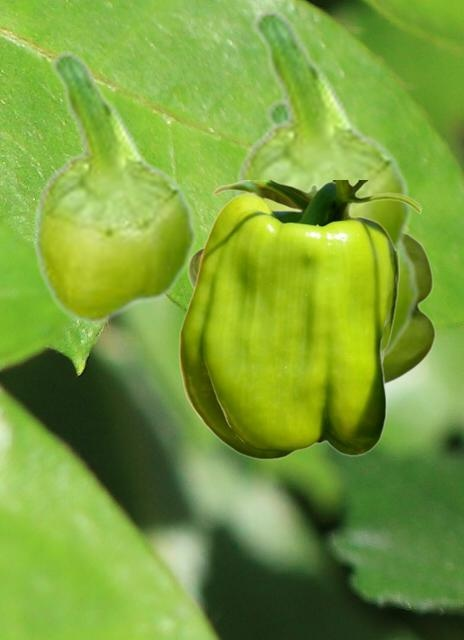bell_pepper: (178, 180, 421, 459), (32, 51, 197, 324), (232, 9, 412, 256), (258, 99, 419, 363), (187, 233, 435, 384)
